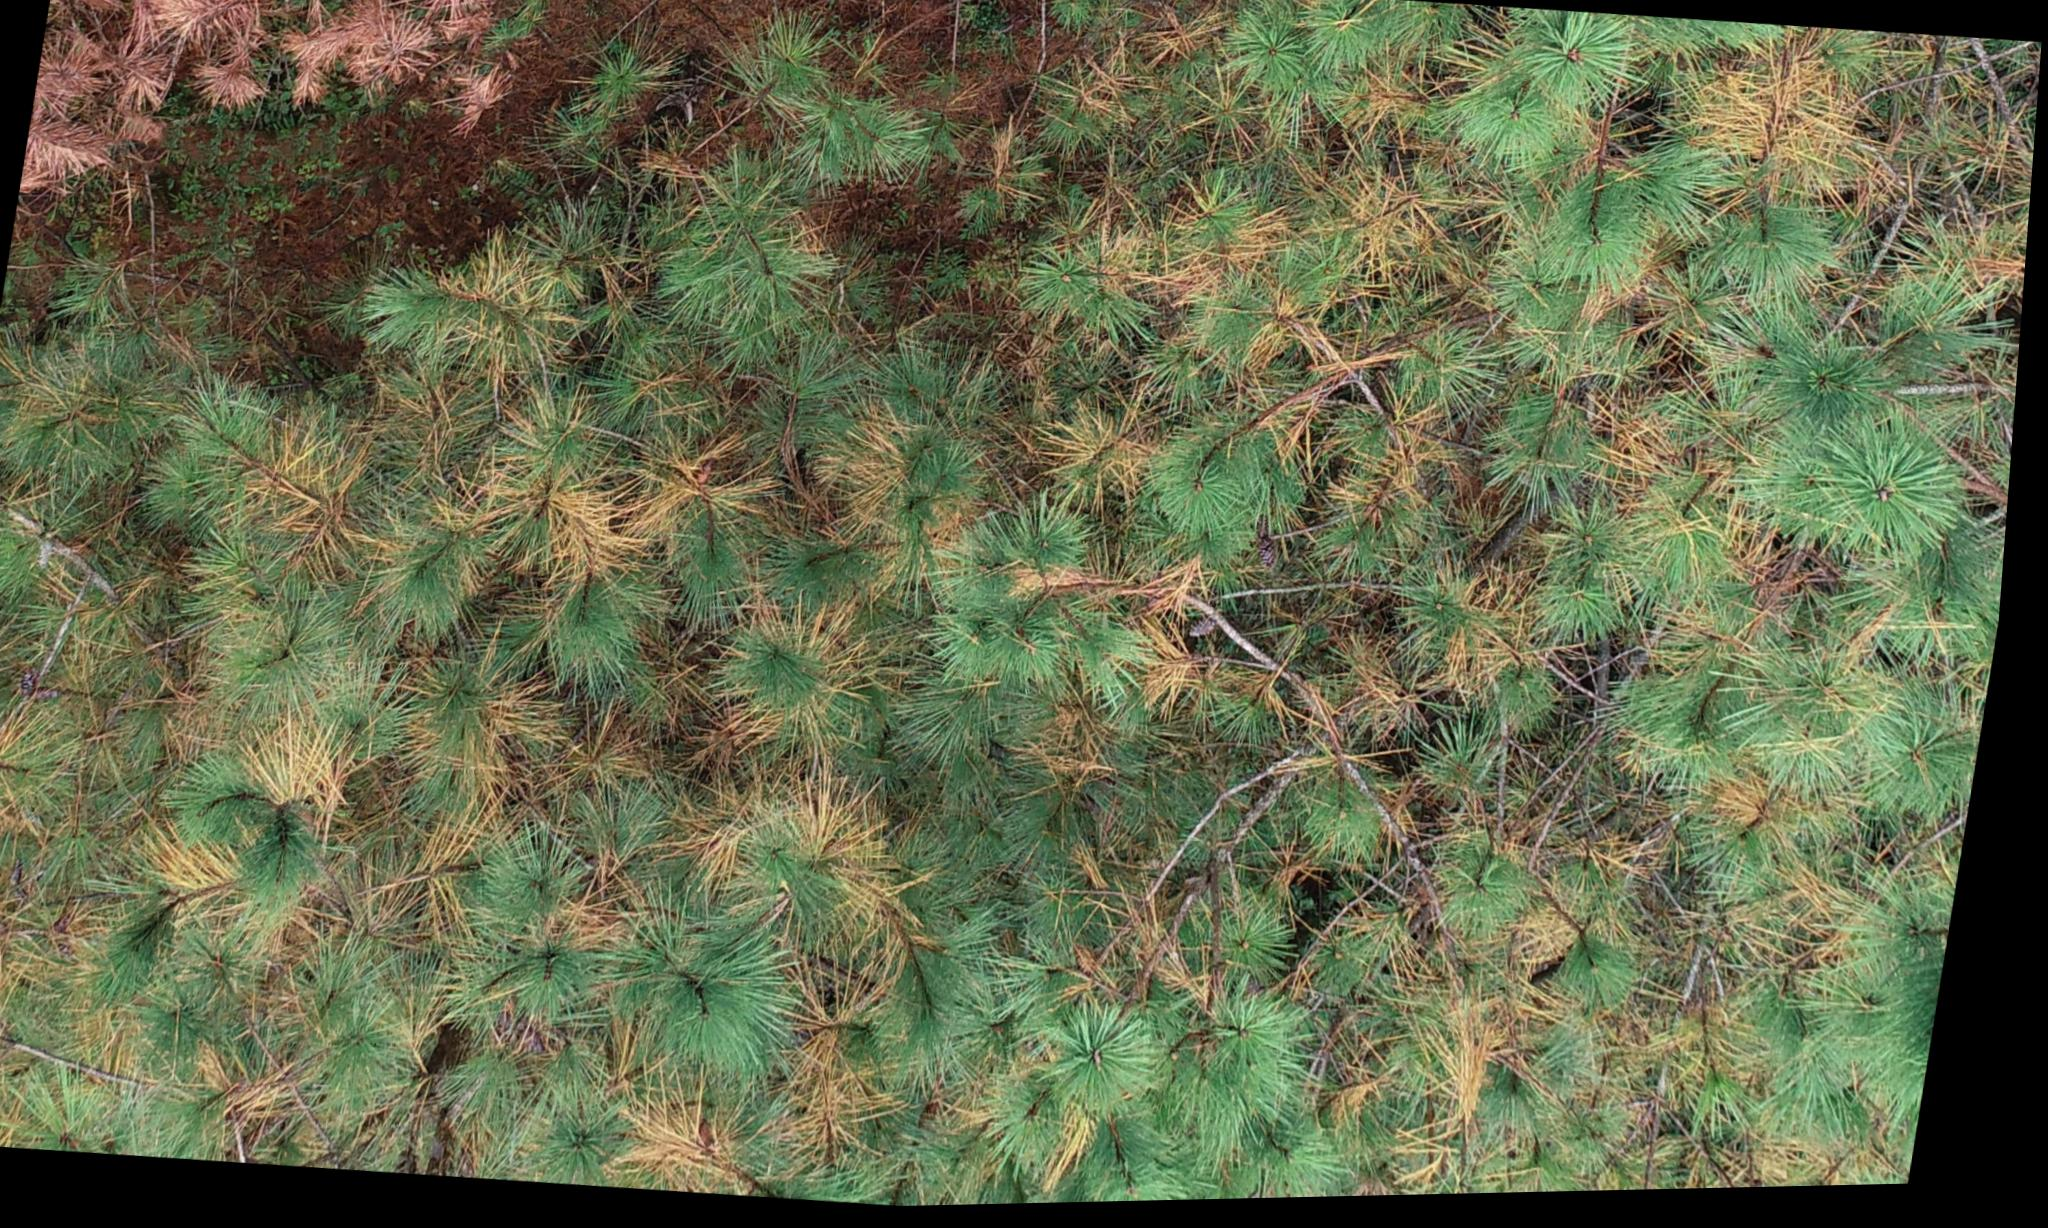heavy: (16, 0, 595, 262)
light: (955, 0, 2048, 1031), (0, 266, 1003, 1224)
